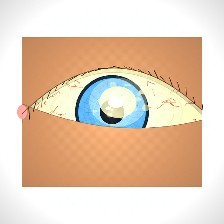corneal_ulcer: (88, 78, 148, 126)
